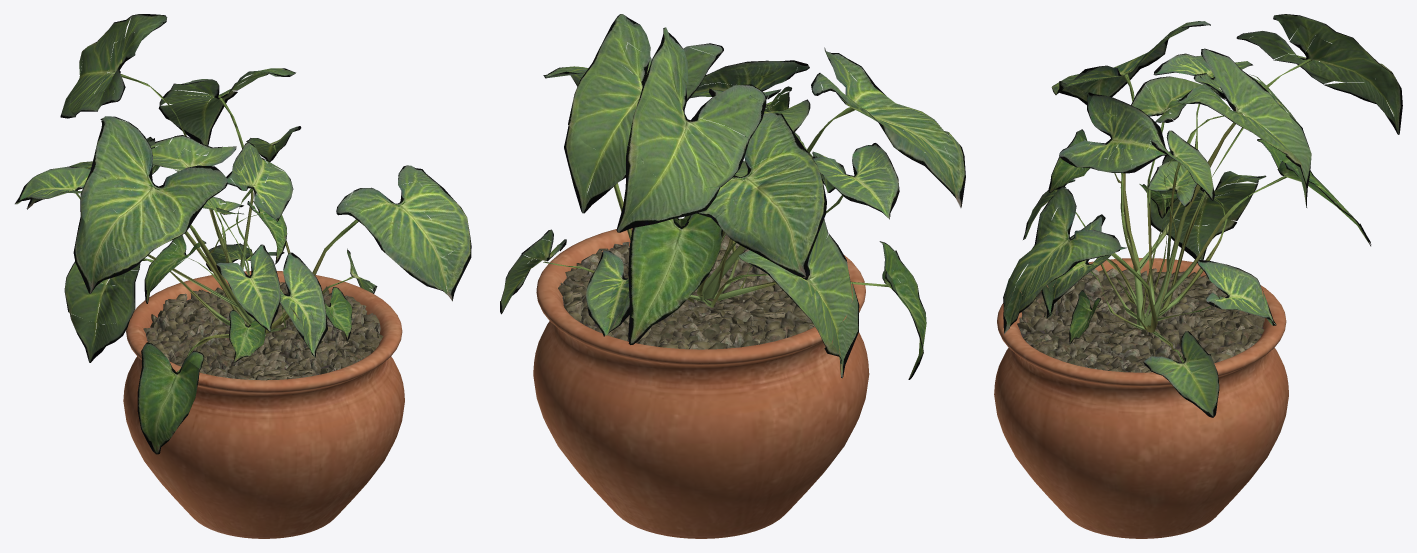
File: potted-plant.glb
3 renders of one model, left to right at view 1: azimuth 30°, elevation 25°; view 2: azimuth 150°, elevation 25°; view 3: azimuth 270°, elevation 25°, orthographic. The views are drawn at different scales.
Parts seen in each view (by area): view 1: potted_plant_02_leaves, potted_plant_02_pot, potted_plant_02_dirt; view 2: potted_plant_02_leaves, potted_plant_02_pot, potted_plant_02_dirt; view 3: potted_plant_02_leaves, potted_plant_02_pot, potted_plant_02_dirt.
Part boxes in pixels (x1=…): potted_plant_02_leaves: x1=15, y1=14, x2=471, y2=454; potted_plant_02_pot: x1=123, y1=271, x2=404, y2=538; potted_plant_02_dirt: x1=143, y1=282, x2=383, y2=380; potted_plant_02_leaves: x1=500, y1=14, x2=965, y2=379; potted_plant_02_pot: x1=533, y1=228, x2=869, y2=538; potted_plant_02_dirt: x1=558, y1=232, x2=816, y2=349; potted_plant_02_leaves: x1=1003, y1=14, x2=1402, y2=417; potted_plant_02_pot: x1=994, y1=258, x2=1288, y2=538; potted_plant_02_dirt: x1=1017, y1=268, x2=1264, y2=372.
Size of the model in its own units: 0.8331 by 1 by 0.7809.
Materials: 2 (2 with a texture image).
